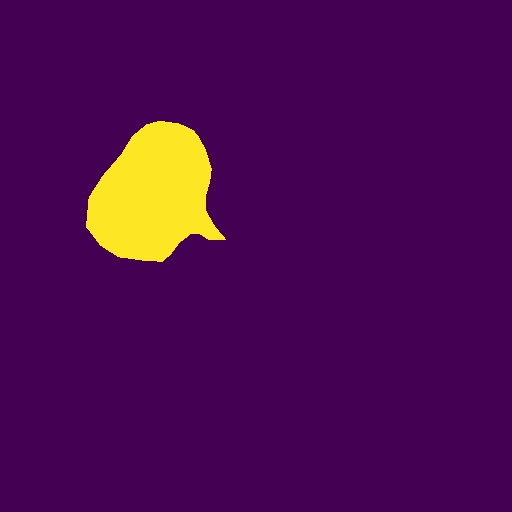Gliomia_tumour: (86, 121, 226, 262)
